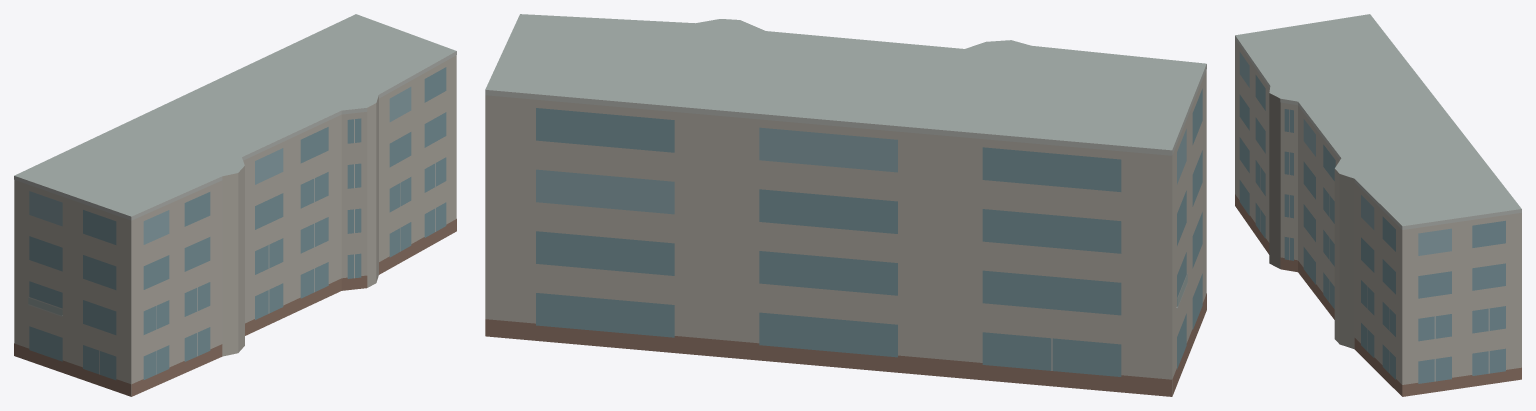
Rendered from survey-upis-32998507.glb.
3 renders of one model, left to right at view 1: azimuth 30°, elevation 25°; view 2: azimuth 150°, elevation 25°; view 3: azimuth 270°, elevation 25°, orthographic. The views are drawn at different scales.
Parts seen in each view (by area): view 1: survey-upis-32998507.tmp; view 2: survey-upis-32998507.tmp; view 3: survey-upis-32998507.tmp.
Part boxes in pixels (x1,y1,x2,y2): survey-upis-32998507.tmp: (14, 14, 456, 396); survey-upis-32998507.tmp: (485, 14, 1206, 396); survey-upis-32998507.tmp: (1235, 14, 1521, 396).
Size of the model in its own units: 29.37 by 11 by 16.77.
